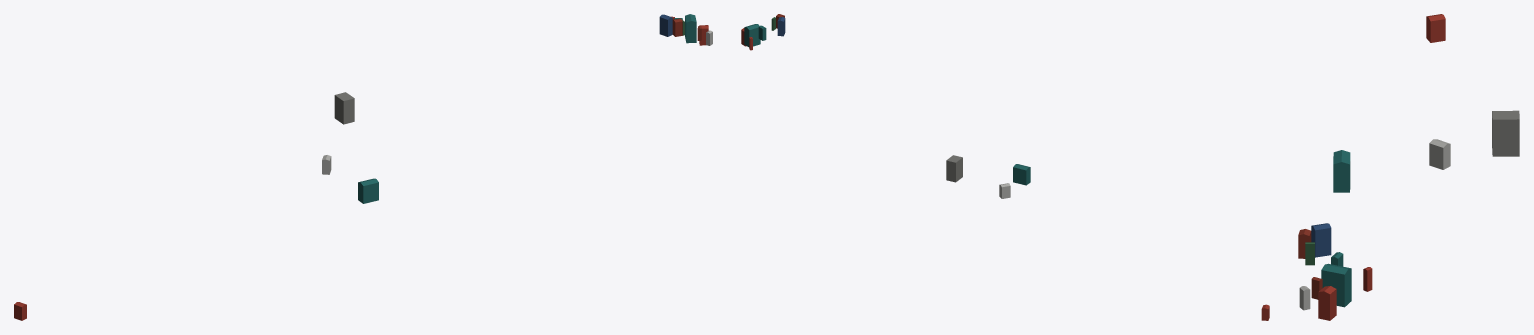
The model's file is near-15-27351-14862.ee1c4855.glb.
3 renders of one model, left to right at view 1: azimuth 30°, elevation 25°; view 2: azimuth 150°, elevation 25°; view 3: azimuth 270°, elevation 25°, orthographic. The views are drawn at different scales.
Size of the model in its own units: 857 by 224 by 158.
